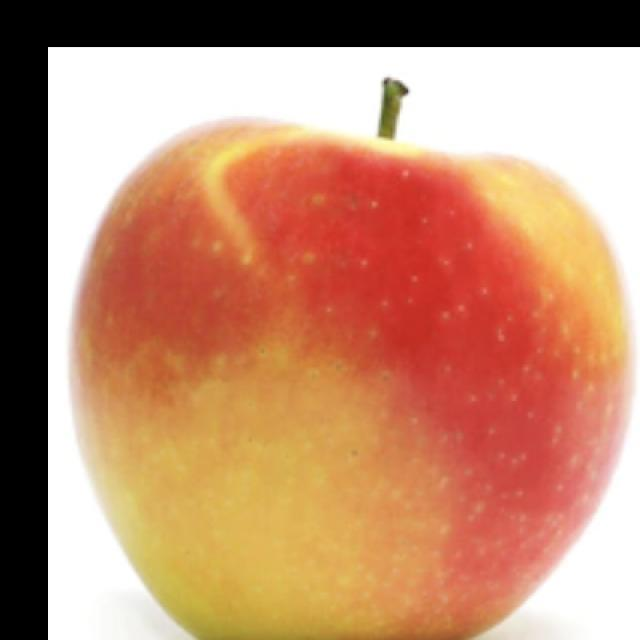Fresh Apple: (84, 125, 588, 640)
